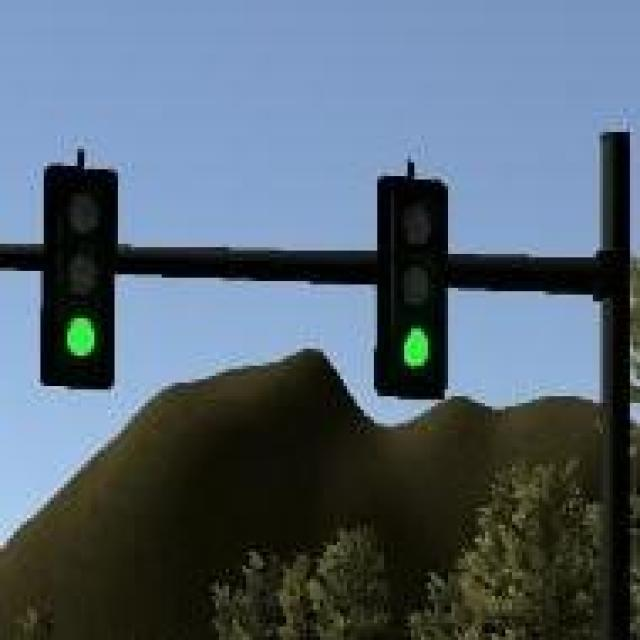green_light: (40, 163, 118, 390), (374, 176, 448, 400)
